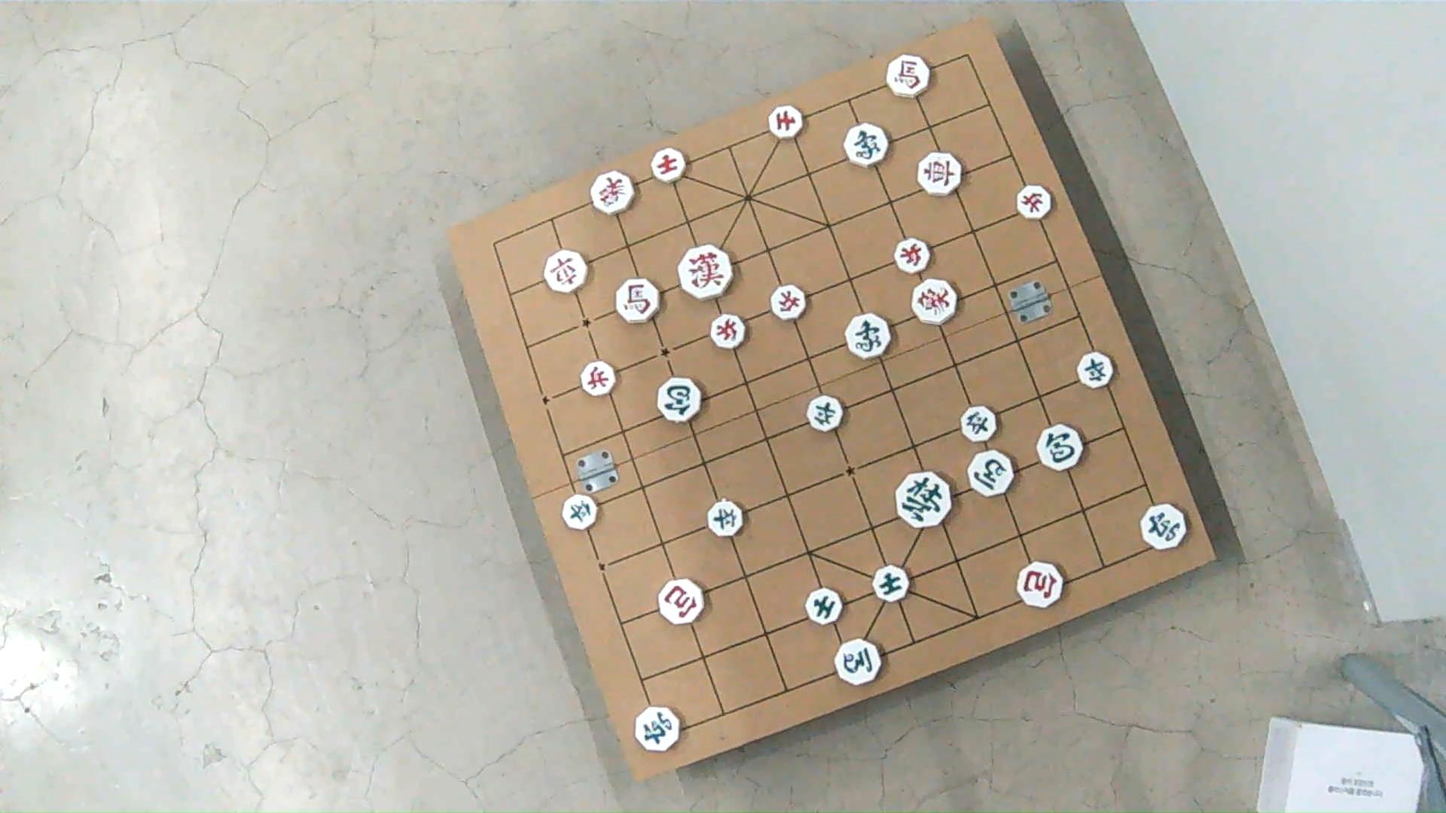cha_green: (632, 705, 681, 751), (1142, 506, 1191, 550)
cha_red: (919, 155, 964, 197), (545, 249, 588, 291)
jol_green: (807, 396, 845, 433), (709, 502, 746, 539), (960, 407, 998, 443), (1078, 352, 1114, 388), (563, 494, 597, 529)
jol_red: (772, 285, 809, 323), (895, 238, 932, 274), (711, 313, 748, 348), (580, 361, 615, 396), (1017, 184, 1052, 218)
ma_green: (968, 452, 1014, 498), (834, 638, 880, 684)
ma_red: (883, 55, 929, 99), (618, 278, 661, 321)
po_green: (1037, 427, 1084, 472), (657, 378, 700, 421)
po_red: (1017, 562, 1065, 608), (659, 578, 706, 623)
sa_green: (806, 589, 844, 626), (874, 566, 912, 602)
sa_red: (647, 148, 688, 184), (768, 105, 805, 140)
sang_green: (847, 313, 892, 359), (845, 124, 890, 167)
sang_red: (911, 279, 958, 324), (593, 172, 636, 215)
wang_green: (895, 471, 950, 528)
wang_red: (682, 244, 734, 299)
